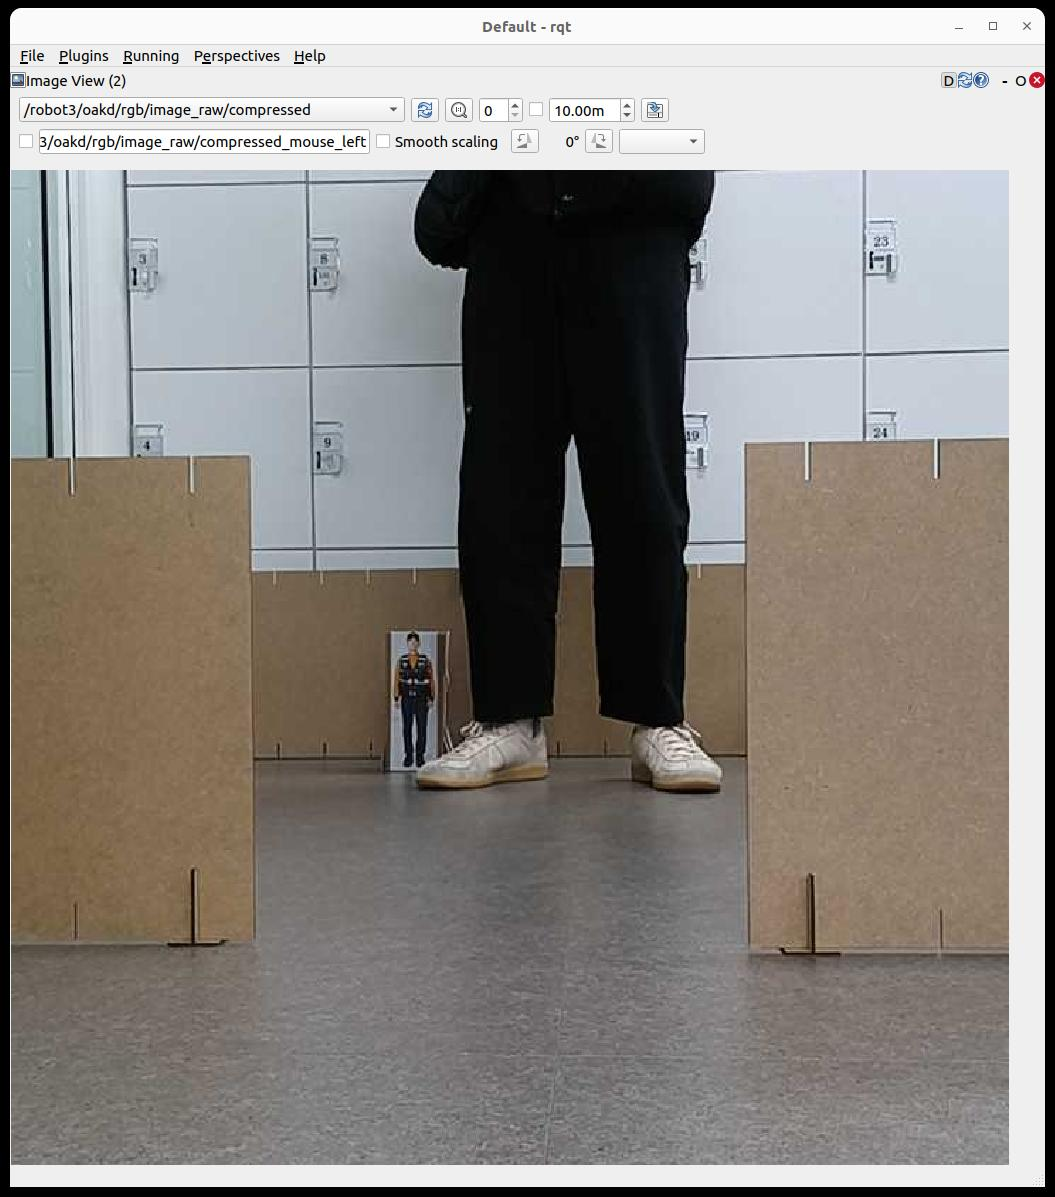Responder: (396, 650, 432, 763)
